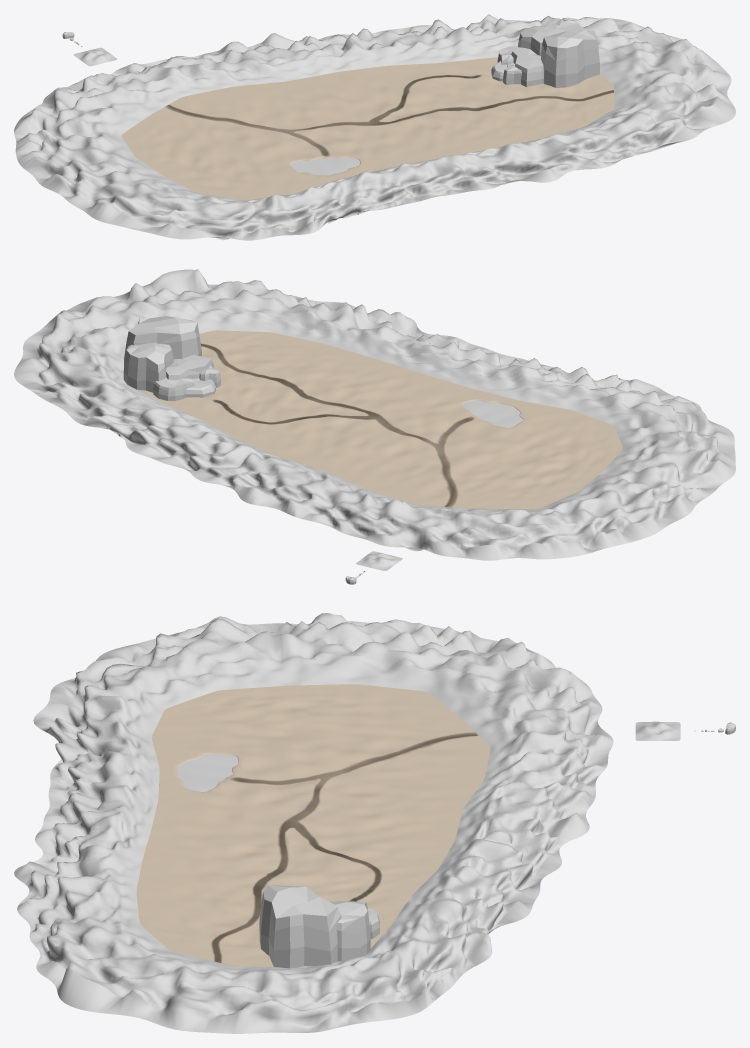
File: BlockingAssets.fbx
3 renders of one model, top to bottom at view 1: azimuth 30°, elevation 25°; view 2: azimuth 150°, elevation 25°; view 3: azimuth 270°, elevation 25°, orthographic. The views are drawn at different scales.
Visible parts, largest first — view 1: Dunes, Ground, QuestMountain, Lake, MiniDunes; view 2: Dunes, Ground, QuestMountain, Lake, MiniDunes; view 3: Dunes, Ground, QuestMountain, Lake, MiniDunes.
Boxes of the visible parts, x1,y1,x2,y2 form: Dunes: (14,14,735,240); Ground: (121,57,614,200); QuestMountain: (491,21,599,87); Lake: (290,158,359,175); MiniDunes: (73,47,117,66); Dunes: (14,269,735,560); Ground: (137,330,622,509); QuestMountain: (123,316,221,400); Lake: (462,400,523,427); MiniDunes: (356,551,402,570); Dunes: (14,613,613,1033); Ground: (136,684,490,967); QuestMountain: (259,885,379,968); Lake: (177,754,238,791); MiniDunes: (635,721,680,740).
Bounding box in the file's own units: 132609 × 10627 × 98022.
